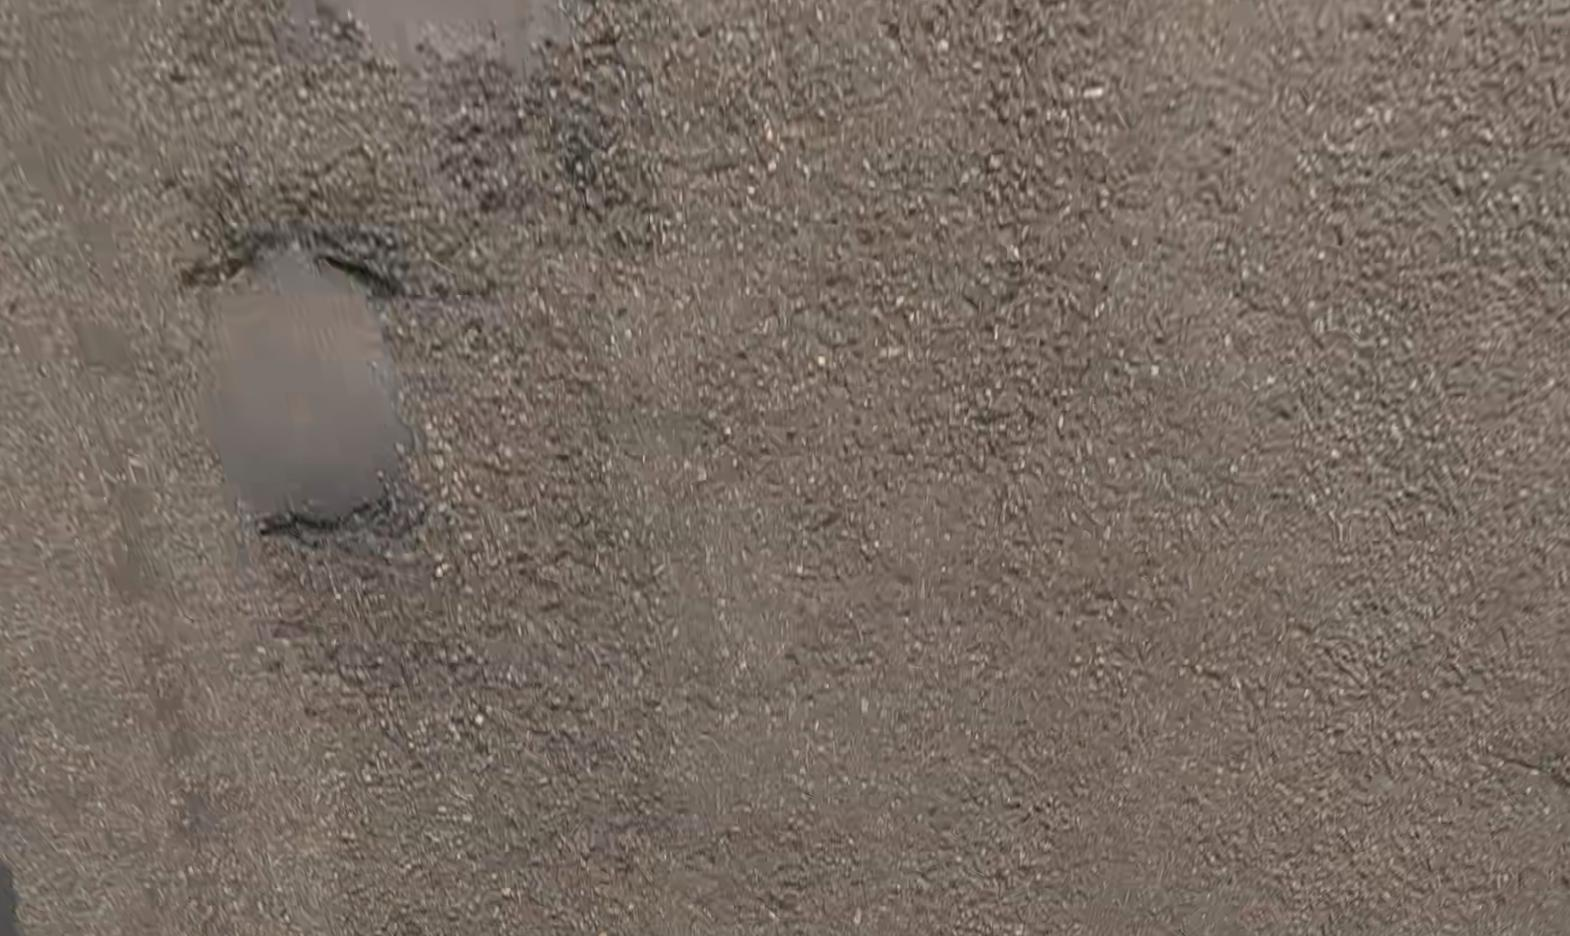pothole: (457, 115, 605, 235)
pothole_patch_good: (202, 250, 403, 513), (316, 0, 562, 58)
